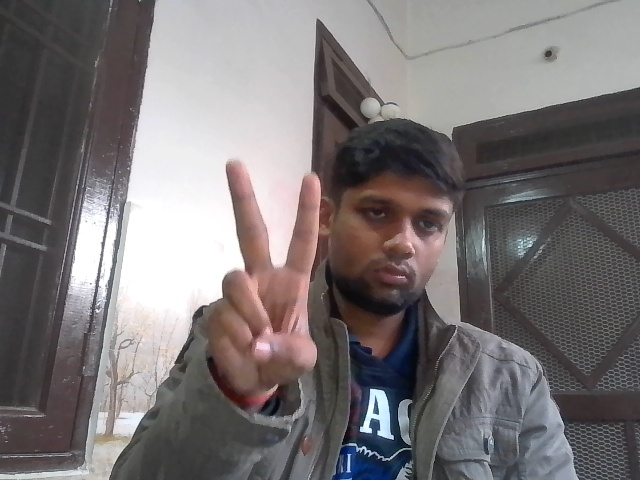Enjoy: (191, 158, 335, 394)
